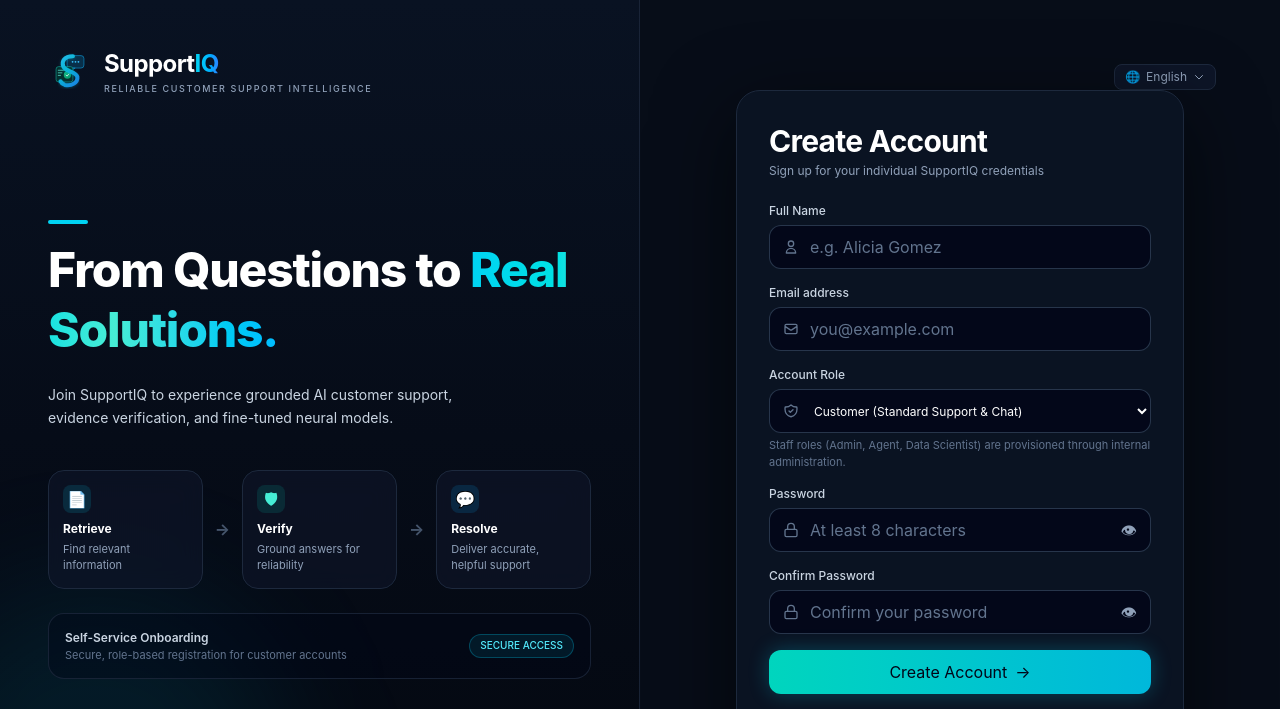
Test: SupportIQ User Registration Workflow › shows error and blocks submission for invalid email format
The width and height of the screenshot is (1280, 709).
Type "Alice Smith" into the field with placeholder "e.g. Alicia Gomez" at [960, 247], box x1=769 y1=225 x2=1151 y2=269
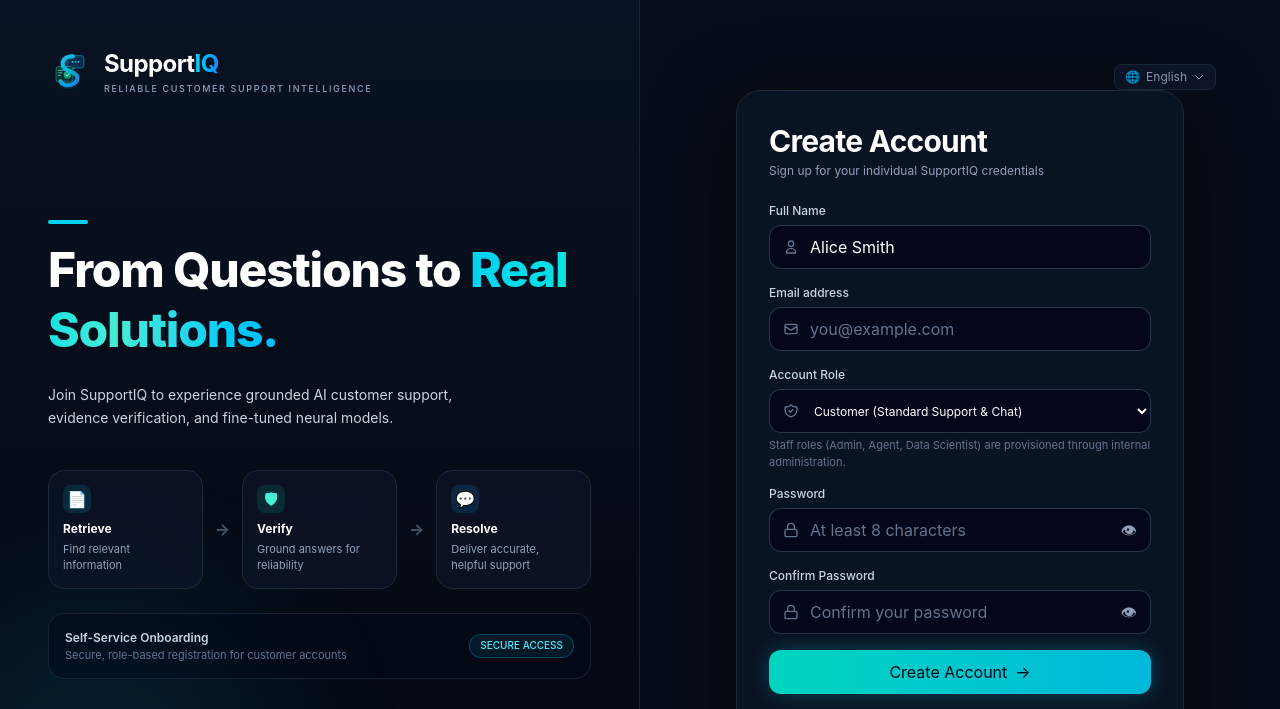
Type "notanemail" into the field with placeholder "you@example.com" at [960, 329], box x1=769 y1=307 x2=1151 y2=351
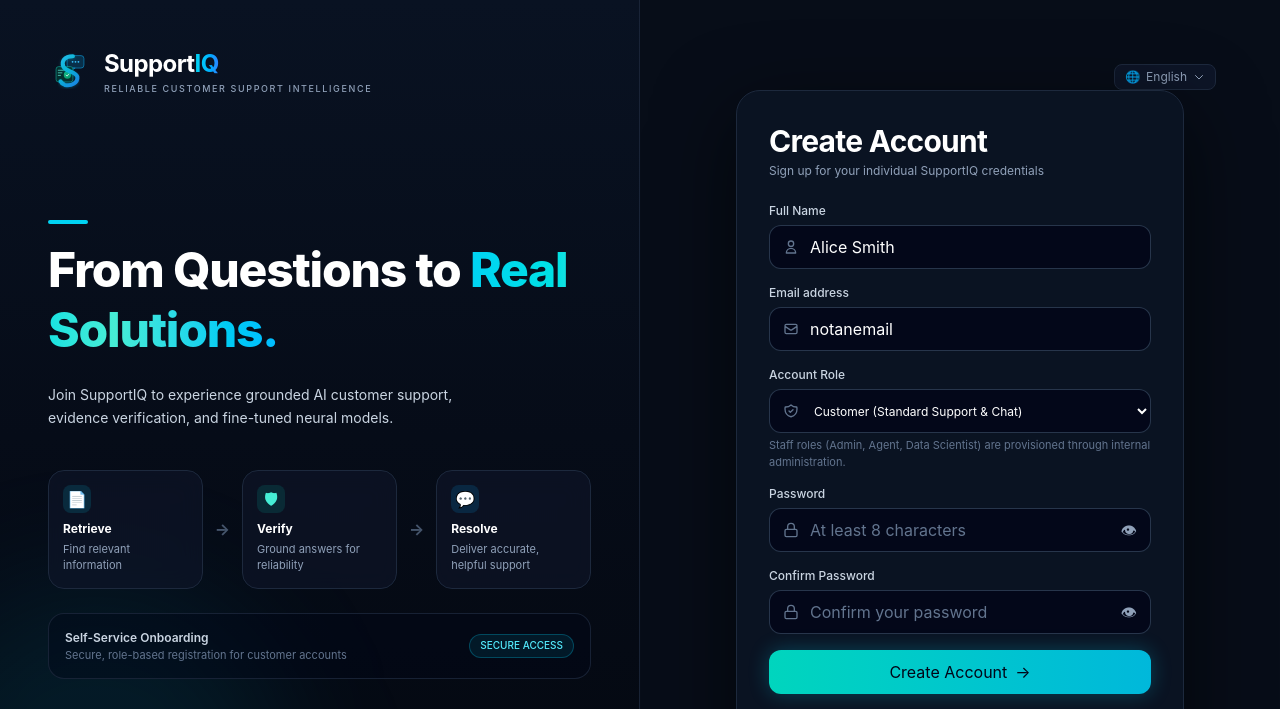
Type "ValidPassword123!" into the password field with placeholder "At least 8 characters" at [960, 530], box x1=769 y1=508 x2=1151 y2=552
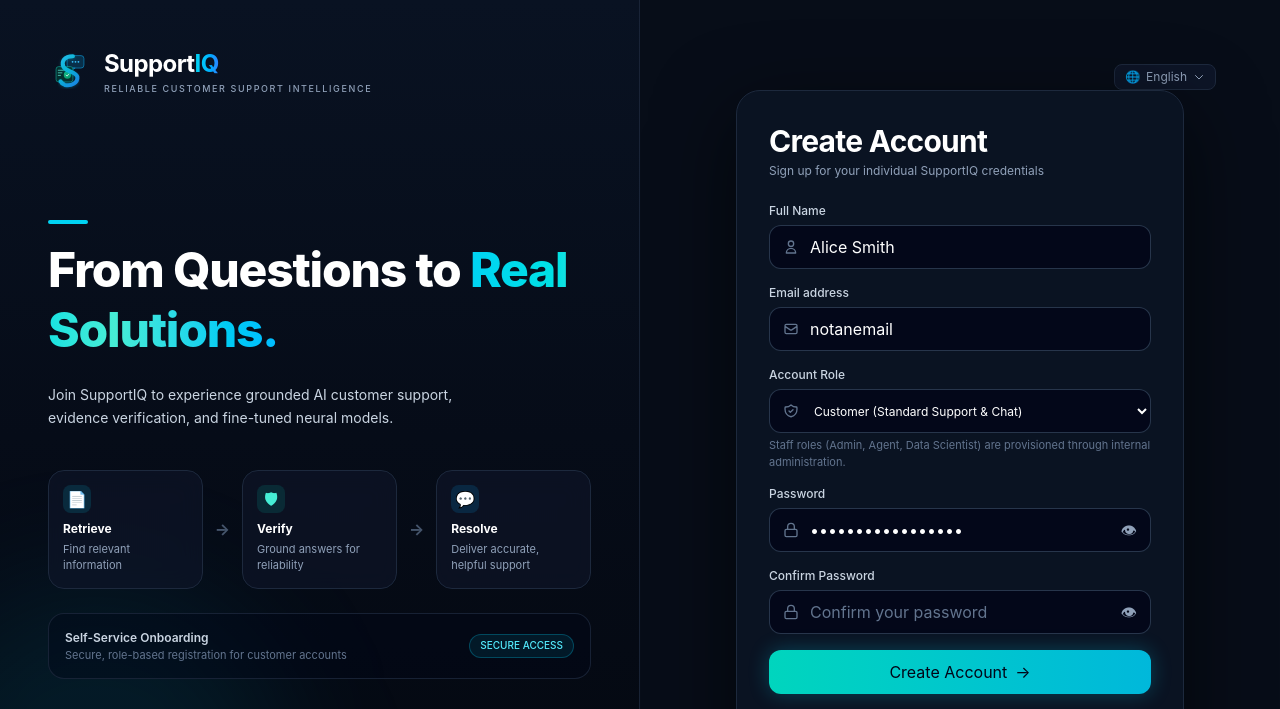
Type "ValidPassword123!" into the password field with placeholder "Confirm your password" at [960, 612], box x1=769 y1=590 x2=1151 y2=634
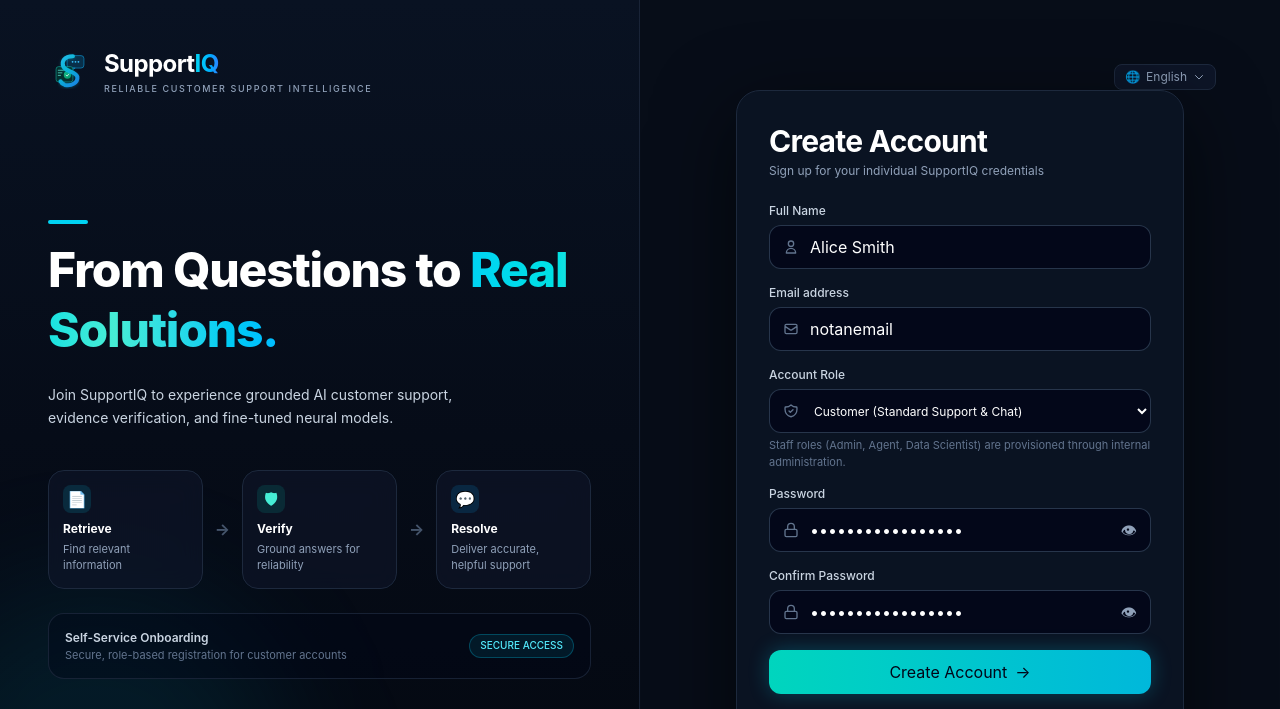
Click the button "Create Account →" at [960, 672], box x1=769 y1=650 x2=1151 y2=694
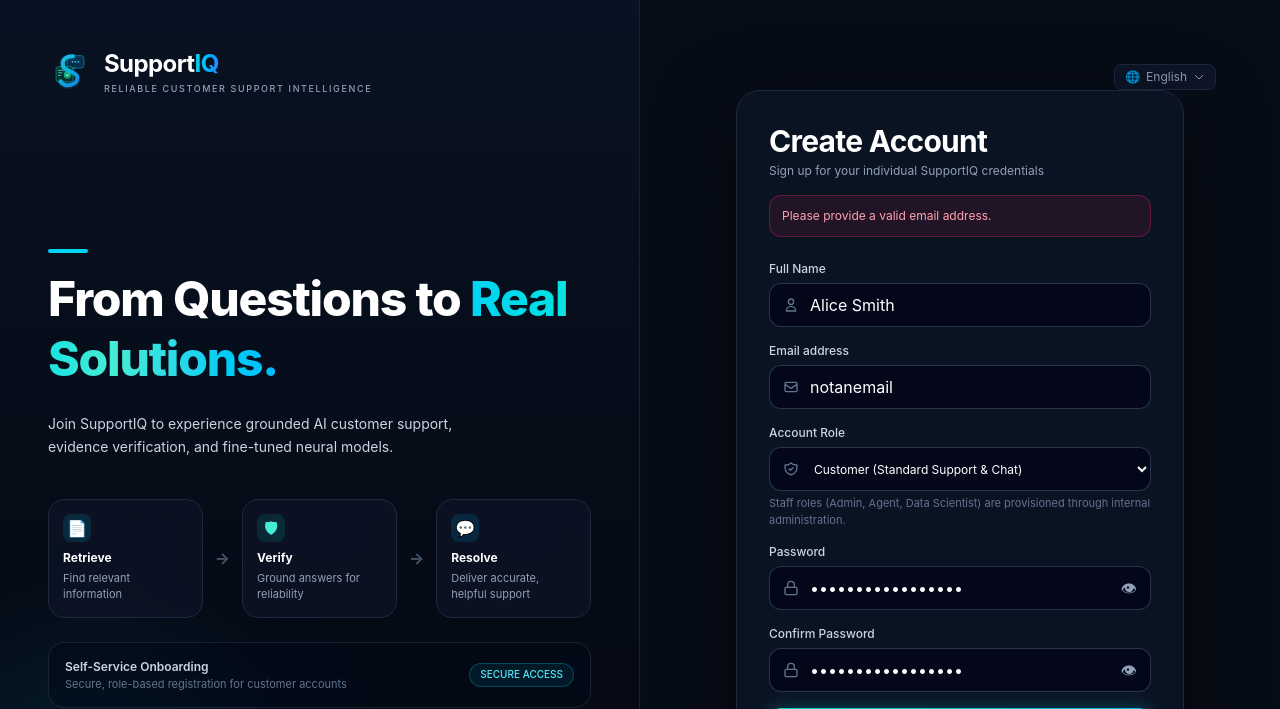
Expected: the text "Please provide a valid email address." is shown, x1=769 y1=195 x2=1151 y2=237
